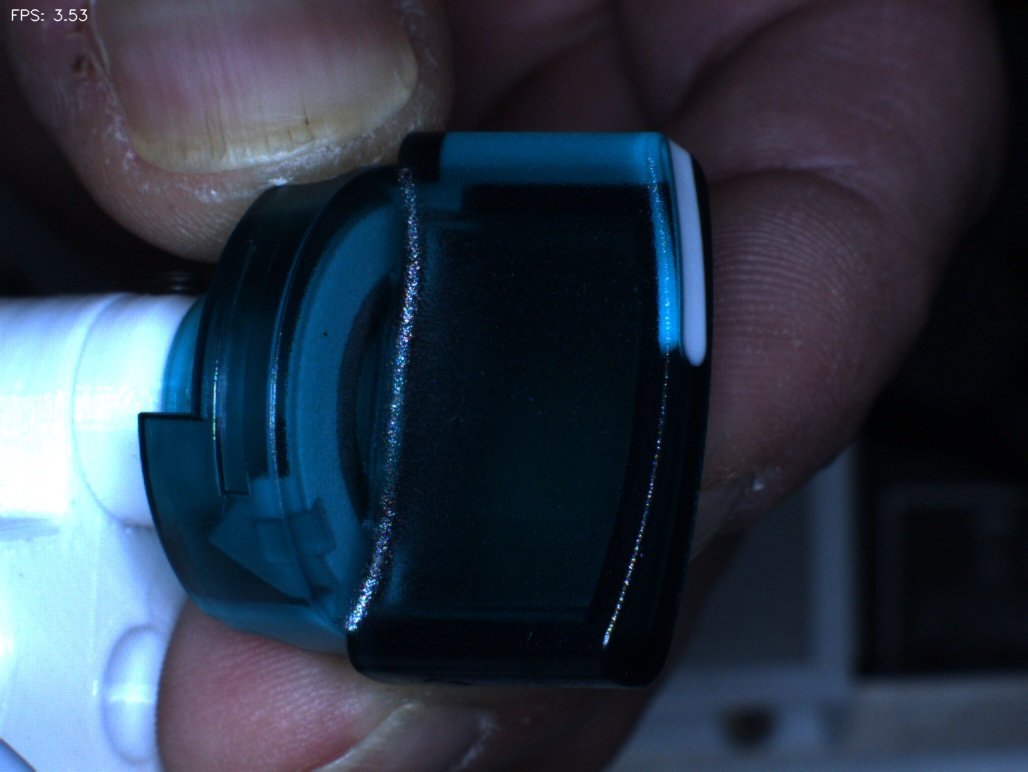PointNoir: (292, 288, 361, 379)
